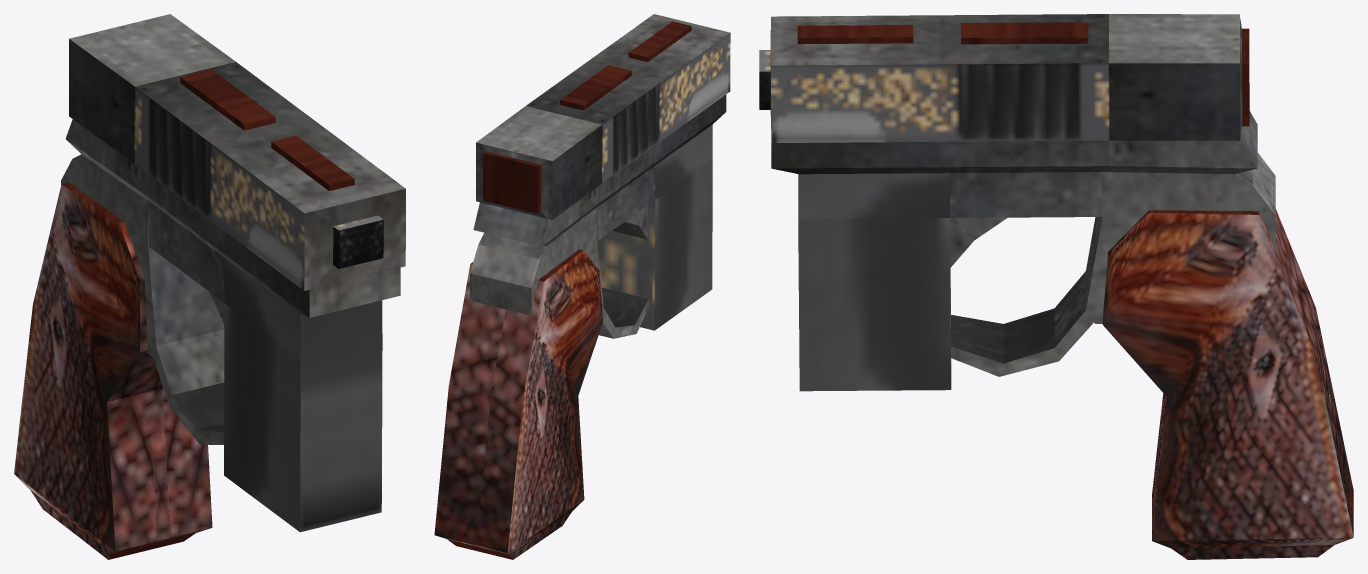
File: realhandguntest2.gltf
3 renders of one model, left to right at view 1: azimuth 30°, elevation 25°; view 2: azimuth 150°, elevation 25°; view 3: azimuth 270°, elevation 25°, orthographic. The views are drawn at different scales.
Parts seen in each view (by area): view 1: Cube; view 2: Cube; view 3: Cube.
Boxes of the visible parts, x1,y1,x2,y2 form: Cube: (14,14,405,559); Cube: (434,14,730,559); Cube: (759,14,1353,559).
Size of the model in its own units: 1.29 by 6.26 by 6.59.
1 material, 1 textured.
